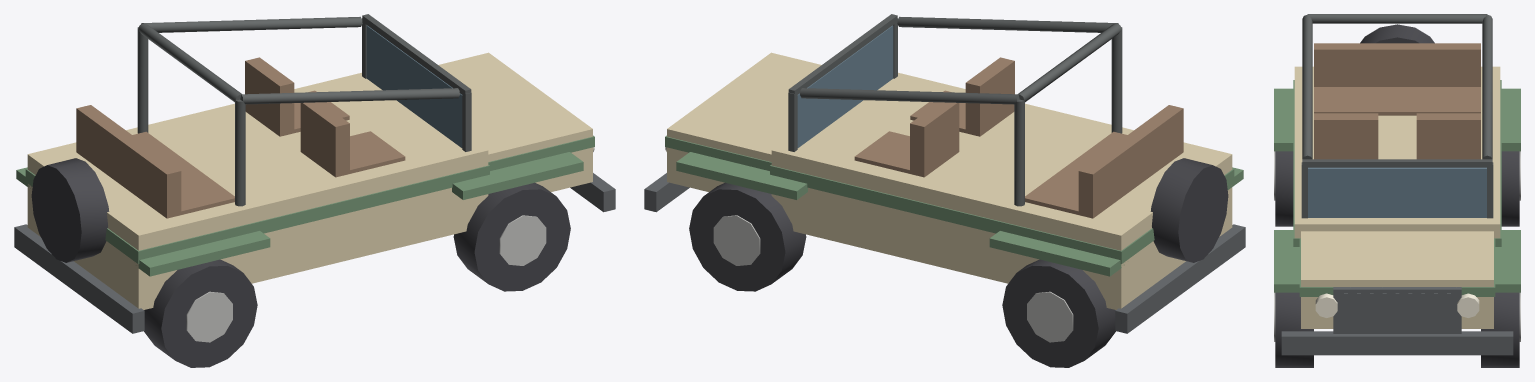
The model's file is jeep.glb.
3 renders of one model, left to right at view 1: azimuth 30°, elevation 25°; view 2: azimuth 150°, elevation 25°; view 3: azimuth 270°, elevation 25°, orthographic. The views are drawn at different scales.
Bounding box in the file's own units: 4.12 × 1.97 × 1.92.
